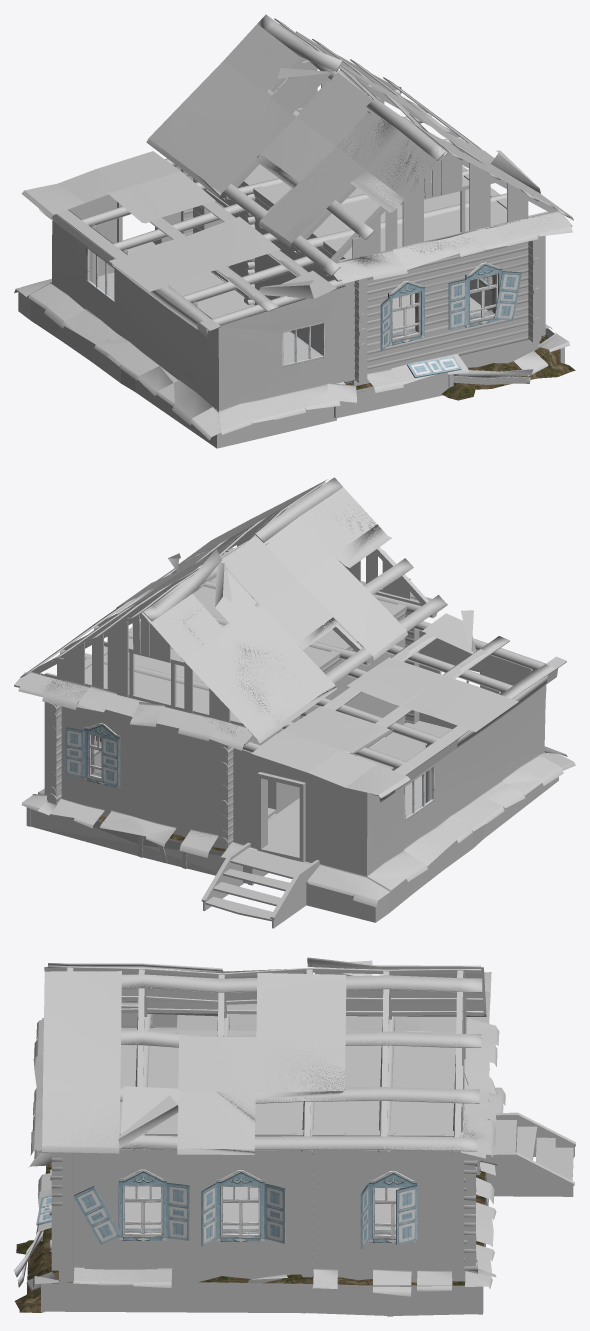
File: SurvivalOldHouse01_prefab 1.fbx
The picture shows the model from 3 angles, top to bottom: view 1: azimuth 30°, elevation 25°; view 2: azimuth 150°, elevation 25°; view 3: azimuth 270°, elevation 25°; orthographic projection. The views are drawn at different scales.
Visible parts, largest first — view 1: LOD_02_Metall03, LOD_0_Metall03, LOD_01_SrubWood, LOD_02_WerandaWood, LOD_0_Obreshetka_stropily, LOD_0_SrubWood, LOD_0_WerandaWood, LOD_0_HouseInterior, LOD_02_HouseWindows, LOD_0_ZavalinkaWood, LOD_01_Obreshetka_stropily, LOD_01_ZavalinkaWood (+8 smaller); view 2: LOD_02_Metall03, LOD_0_Metall03, LOD_02_WerandaWood, LOD_02_SrubWood, LOD_0_Obreshetka_stropily, LOD_0_WerandaWood, LOD_01_SrubWood, LOD_0_SrubWood, LOD_01_WerandaWood, LOD_0_HouseInterior, LOD_01_Obreshetka_stropily, LOD_0_ZavalinkaWood (+3 smaller); view 3: LOD_02_Metall03, LOD_0_Metall03, LOD_01_SrubWood, LOD_0_Obreshetka_stropily, LOD_02_SrubWood, LOD_0_HouseInterior, LOD_0_ZavalinkaWood, LOD_01_HouseWindows, LOD_01_Obreshetka_stropily, LOD_02_ZavalinkaWood, LOD_0_WerandaWood, LOD_01_Metall03 (+6 smaller).
Boxes of the visible parts, x1,y1,x2,y2 form: LOD_02_Metall03: (16, 14, 571, 436); LOD_0_Metall03: (14, 20, 573, 440); LOD_01_SrubWood: (53, 99, 545, 382); LOD_02_WerandaWood: (52, 221, 344, 448); LOD_0_Obreshetka_stropily: (222, 15, 572, 281); LOD_0_SrubWood: (39, 90, 545, 411); LOD_0_WerandaWood: (18, 166, 345, 448); LOD_0_HouseInterior: (216, 161, 506, 335); LOD_02_HouseWindows: (382, 263, 521, 377); LOD_0_ZavalinkaWood: (334, 335, 575, 417); LOD_01_Obreshetka_stropily: (253, 32, 556, 279); LOD_01_ZavalinkaWood: (211, 271, 564, 418); LOD_02_Metall03: (19, 479, 573, 900); LOD_0_Metall03: (18, 487, 575, 907); LOD_02_WerandaWood: (204, 697, 558, 927); LOD_02_SrubWood: (44, 610, 557, 847); LOD_0_Obreshetka_stropily: (14, 477, 447, 744); LOD_0_WerandaWood: (201, 630, 542, 928); LOD_01_SrubWood: (56, 611, 566, 847); LOD_0_SrubWood: (30, 551, 566, 864); LOD_01_WerandaWood: (202, 685, 546, 927); LOD_0_HouseInterior: (85, 569, 407, 771); LOD_01_Obreshetka_stropily: (21, 485, 425, 740); LOD_0_ZavalinkaWood: (30, 724, 402, 885); LOD_02_Metall03: (34, 971, 501, 1290); LOD_0_Metall03: (26, 960, 505, 1296); LOD_01_SrubWood: (51, 1001, 479, 1278); LOD_0_Obreshetka_stropily: (37, 957, 489, 1160); LOD_02_SrubWood: (51, 1149, 479, 1274); LOD_0_HouseInterior: (119, 1030, 456, 1231); LOD_0_ZavalinkaWood: (14, 1165, 488, 1316); LOD_01_HouseWindows: (36, 1170, 417, 1248); LOD_01_Obreshetka_stropily: (37, 958, 485, 1160); LOD_02_ZavalinkaWood: (45, 1167, 486, 1313); LOD_0_WerandaWood: (121, 989, 575, 1196); LOD_01_Metall03: (34, 967, 492, 1293).
Size of the model in its own units: 831 by 546 by 923.
